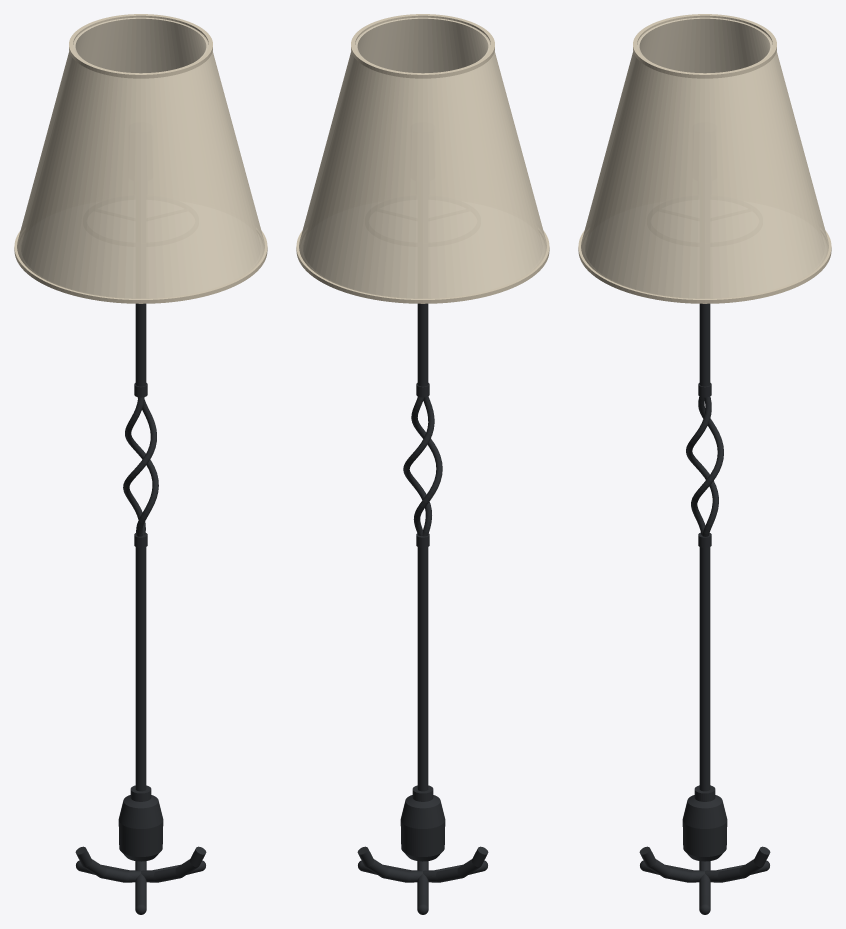
The picture shows the model from 3 angles, left to right: view 1: azimuth 30°, elevation 25°; view 2: azimuth 150°, elevation 25°; view 3: azimuth 270°, elevation 25°; orthographic projection.
Visible parts, largest first — view 1: geometry_0_mesh.002, geometry_0_cylinder.019, geometry_0_mesh, geometry_0_mesh.004, geometry_0_mesh.003, geometry_0_cylinder.090; view 2: geometry_0_mesh.002, geometry_0_cylinder.019, geometry_0_mesh, geometry_0_mesh.004, geometry_0_mesh.003, geometry_0_cylinder.090; view 3: geometry_0_mesh.002, geometry_0_cylinder.019, geometry_0_mesh, geometry_0_mesh.004, geometry_0_mesh.003, geometry_0_cylinder.090.
Boxes of the visible parts, left/top/right/bottom form: geometry_0_mesh.002: left=17, top=17, right=264, bottom=298; geometry_0_cylinder.019: left=135, top=547, right=146, bottom=791; geometry_0_mesh: left=118, top=795, right=163, bottom=861; geometry_0_mesh.004: left=69, top=14, right=212, bottom=78; geometry_0_mesh.003: left=14, top=229, right=267, bottom=303; geometry_0_cylinder.090: left=135, top=303, right=146, bottom=386; geometry_0_mesh.002: left=299, top=17, right=546, bottom=298; geometry_0_cylinder.019: left=417, top=547, right=428, bottom=791; geometry_0_mesh: left=400, top=795, right=445, bottom=861; geometry_0_mesh.004: left=351, top=14, right=494, bottom=78; geometry_0_mesh.003: left=296, top=229, right=549, bottom=303; geometry_0_cylinder.090: left=417, top=303, right=428, bottom=386; geometry_0_mesh.002: left=581, top=17, right=828, bottom=298; geometry_0_cylinder.019: left=699, top=547, right=710, bottom=791; geometry_0_mesh: left=682, top=795, right=727, bottom=861; geometry_0_mesh.004: left=633, top=14, right=776, bottom=78; geometry_0_mesh.003: left=578, top=229, right=831, bottom=303; geometry_0_cylinder.090: left=699, top=303, right=710, bottom=386.
Bounding box in the file's own units: 0.488 × 1.79 × 0.488.
